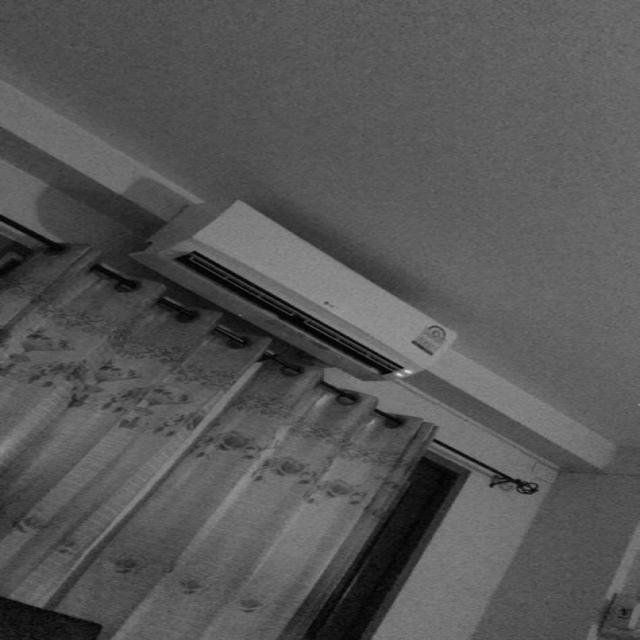AC: (127, 197, 458, 382)
